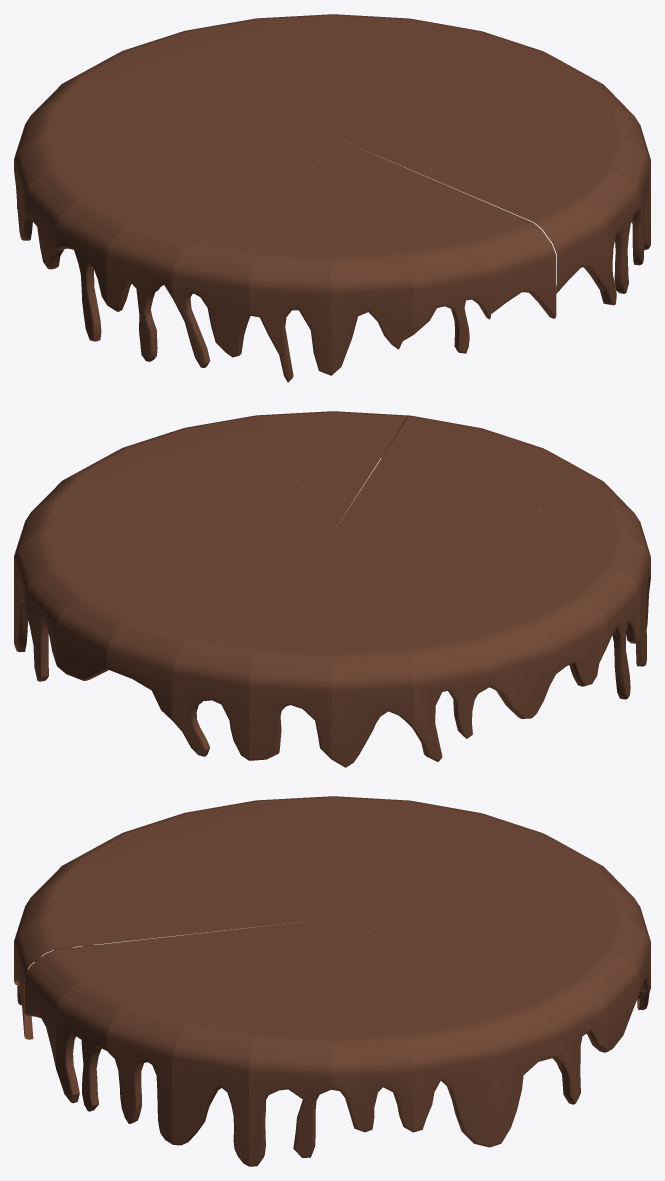
The model's file is Ara_katman_4Y.fbx.
The picture shows the model from 3 angles, top to bottom: view 1: azimuth 30°, elevation 25°; view 2: azimuth 150°, elevation 25°; view 3: azimuth 270°, elevation 25°; orthographic projection.
Parts seen in each view (by area): view 1: p113, p114, p112, p115, p109, p111, p116, p108, p107, p117, p106, p122 (+12 smaller); view 2: p121, p120, p119, p42, p122, p118, p110, p117, p116, p103, p102, p115 (+12 smaller); view 3: p105, p101, p104, p106, p100, p102, p107, p103, p110, p108, p111, p118 (+12 smaller).
Boxes of the visible parts, box(x1,y1,x2,y2) form: p113: box(249, 137, 332, 382); p114: box(172, 137, 331, 367); p112: box(331, 137, 413, 375); p115: box(106, 137, 331, 361); p109: box(333, 137, 490, 353); p111: box(333, 137, 556, 318); p116: box(56, 136, 331, 341); p108: box(333, 136, 607, 293); p107: box(334, 136, 639, 305); p117: box(24, 136, 330, 269); p106: box(335, 136, 650, 265); p122: box(14, 136, 329, 240); p121: box(331, 534, 413, 767); p120: box(249, 534, 332, 760); p119: box(172, 534, 331, 760); p42: box(333, 534, 490, 761); p122: box(333, 534, 556, 718); p118: box(106, 534, 331, 720); p110: box(56, 533, 331, 680); p117: box(333, 533, 607, 686); p116: box(334, 533, 639, 699); p103: box(24, 533, 330, 681); p102: box(14, 533, 329, 652); p115: box(335, 533, 650, 666); p105: box(172, 919, 331, 1166); p101: box(333, 919, 490, 1147); p104: box(249, 919, 332, 1166); p106: box(106, 919, 331, 1144); p100: box(331, 919, 413, 1132); p102: box(333, 919, 556, 1147); p107: box(56, 918, 331, 1111); p103: box(334, 919, 607, 1104); p110: box(333, 918, 639, 1051); p108: box(24, 918, 330, 1067); p111: box(14, 917, 329, 1039); p118: box(335, 918, 650, 991).
Size of the model in its own units: 2.06 by 0.4277 by 2.06.
